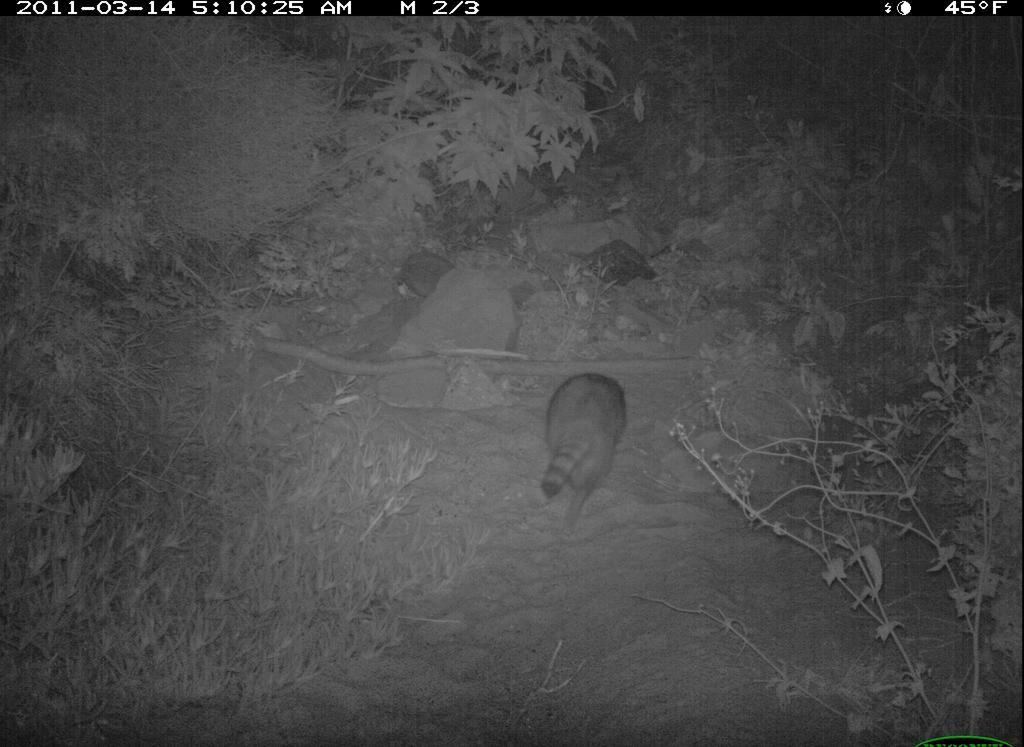raccoon: (539, 369, 632, 551)
